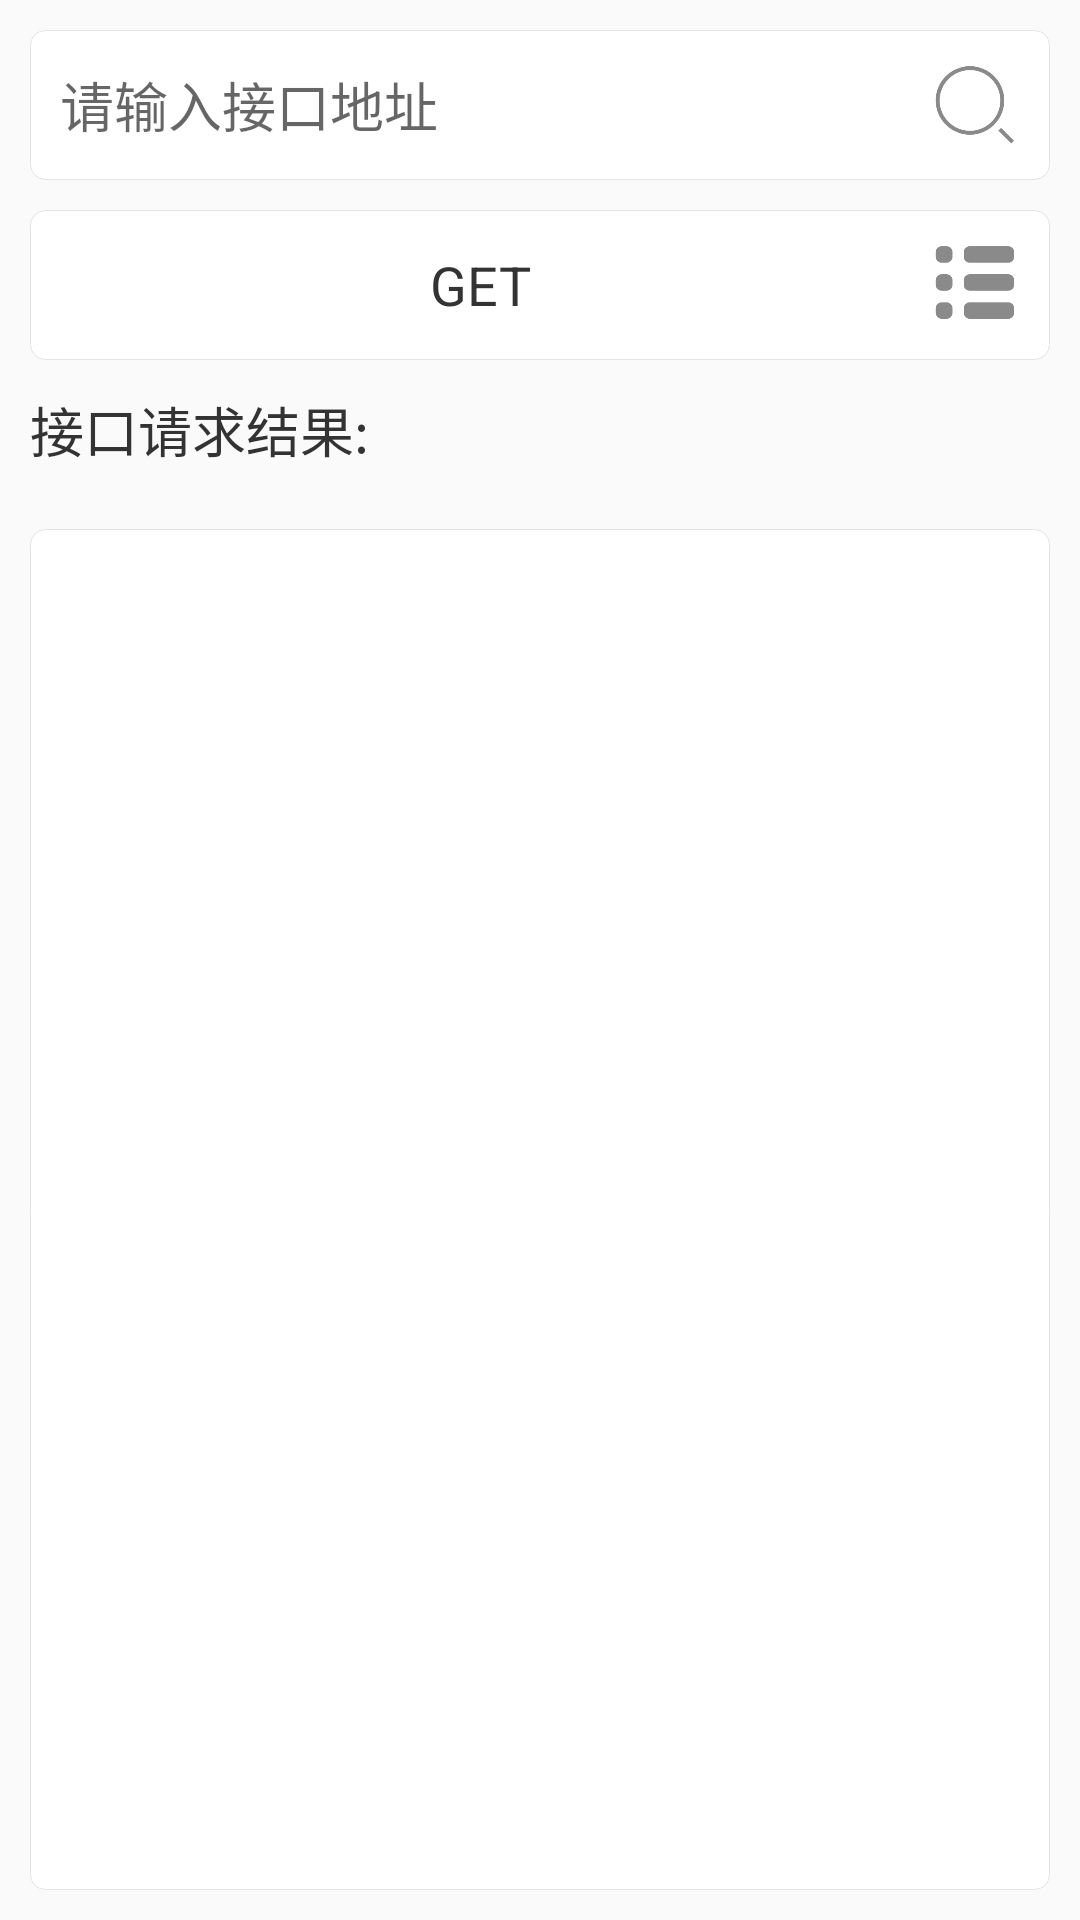

Screen size 1080x1920. Icon name, then its box in pixels as {"x1": x1, "y1": y1, "x2": x2, "y2": y2}:
list: {"x1": 936, "y1": 246, "x2": 1014, "y2": 319}
search: {"x1": 936, "y1": 66, "x2": 1014, "y2": 143}
